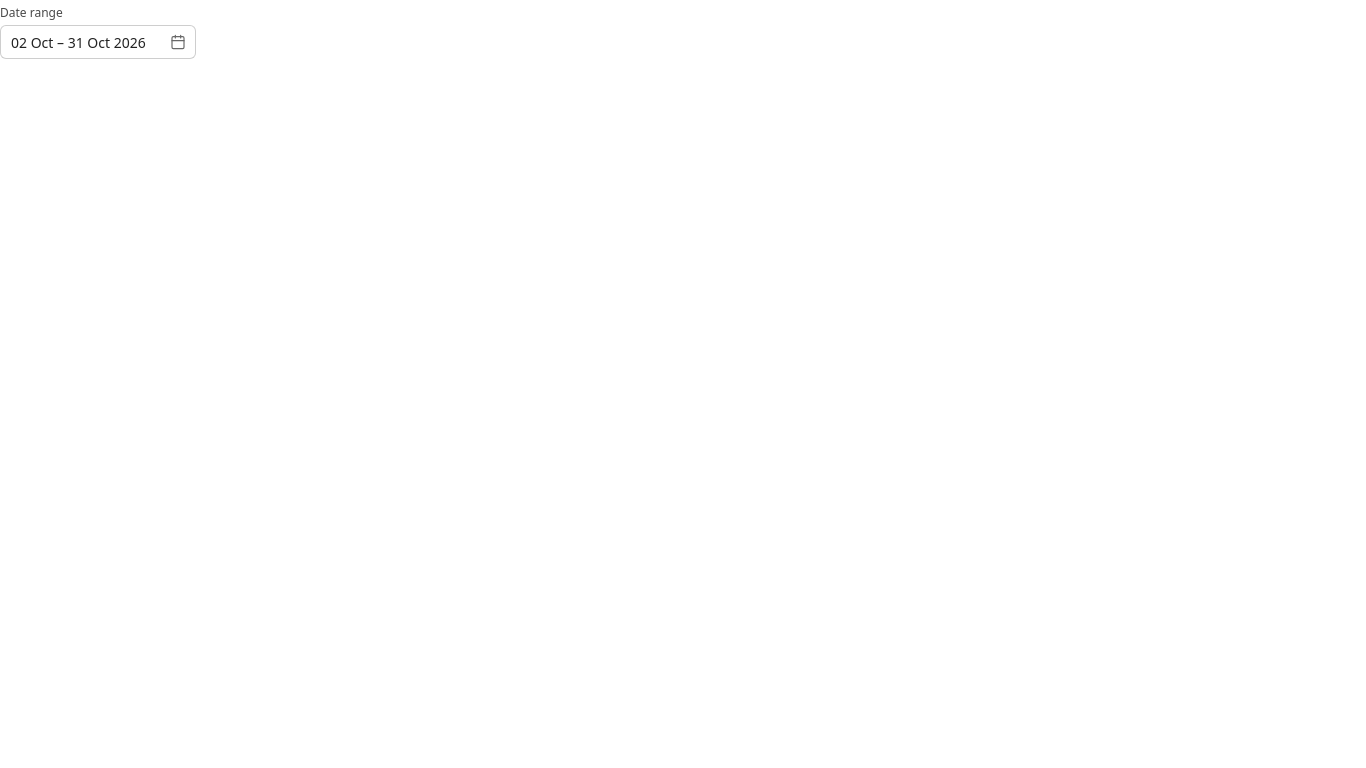
it: DateRangePicker › closes when clicking outside
The width and height of the screenshot is (1366, 768).
Click the button named "Date range": (98, 42) [0,25,196,59]
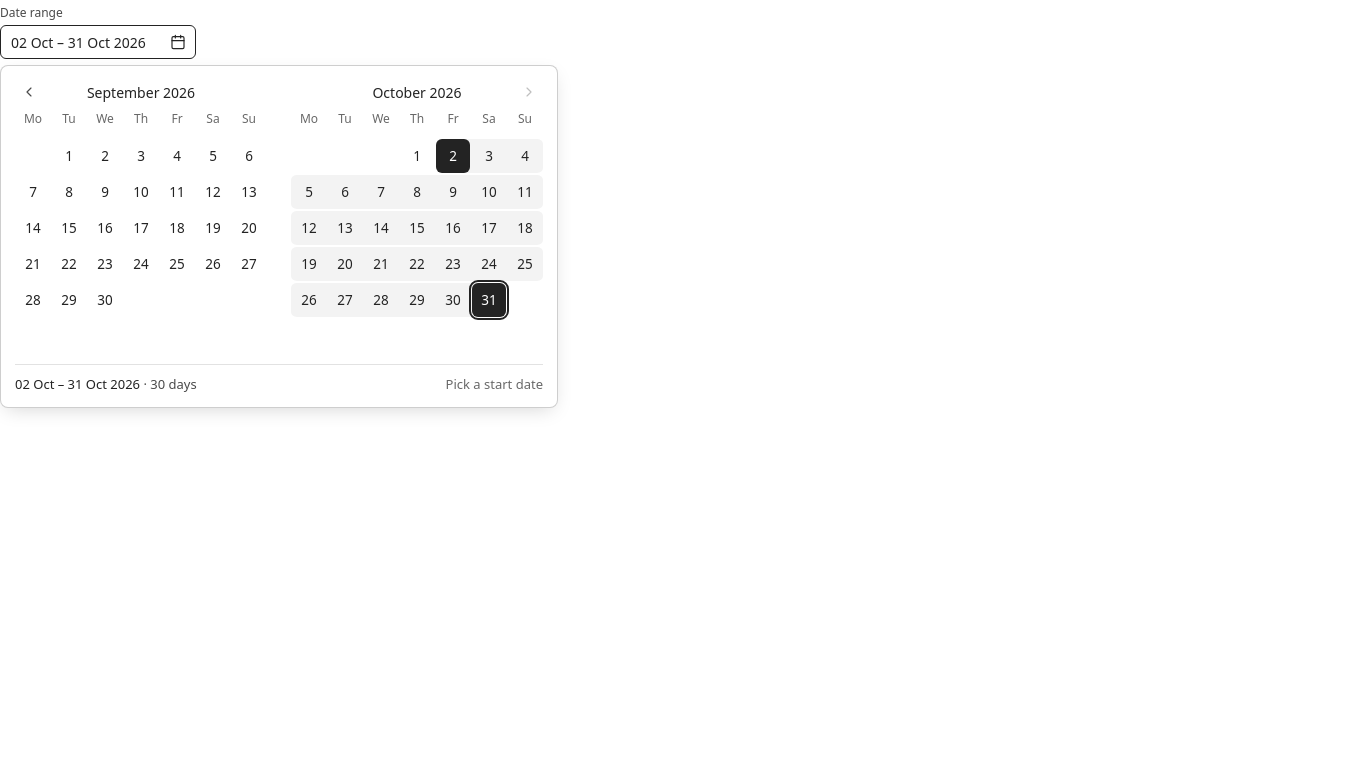
Click the element that starts with "Date range": (683, 30) [0,0,1365,59]
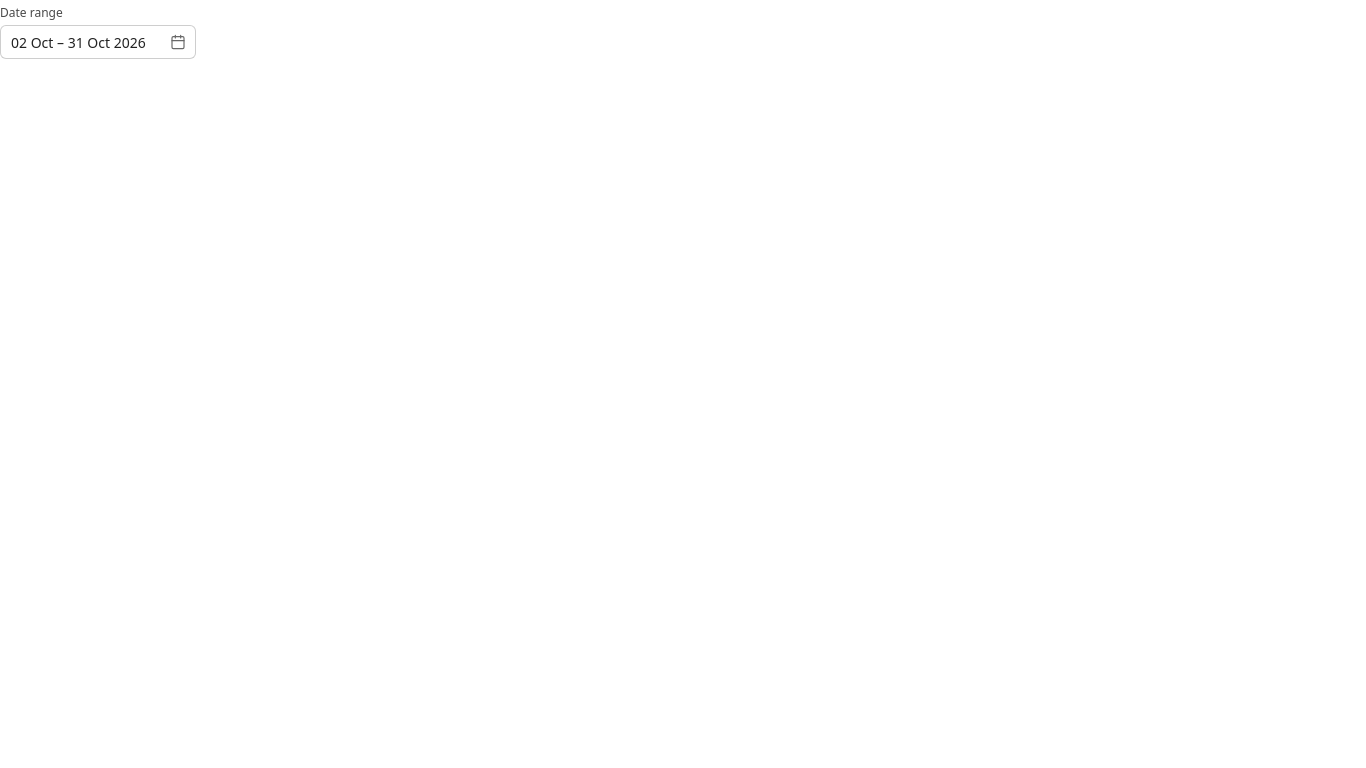
Expected: the dialog is gone
